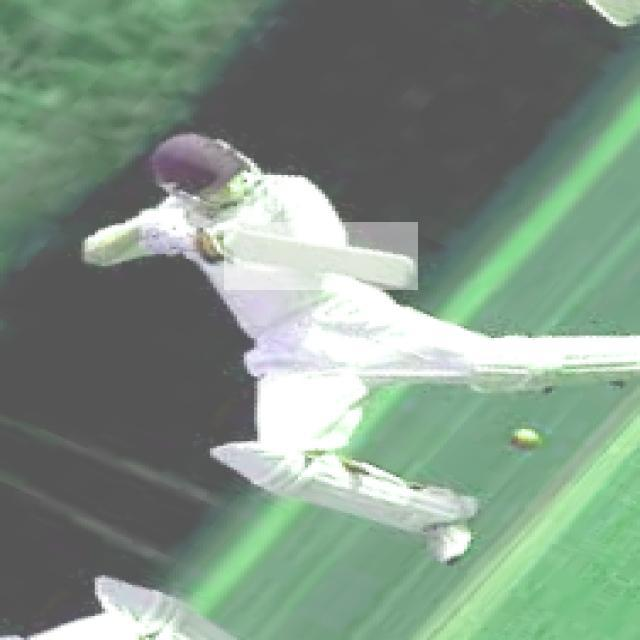bat: (225, 225, 418, 289)
toe: (404, 260, 419, 290)
